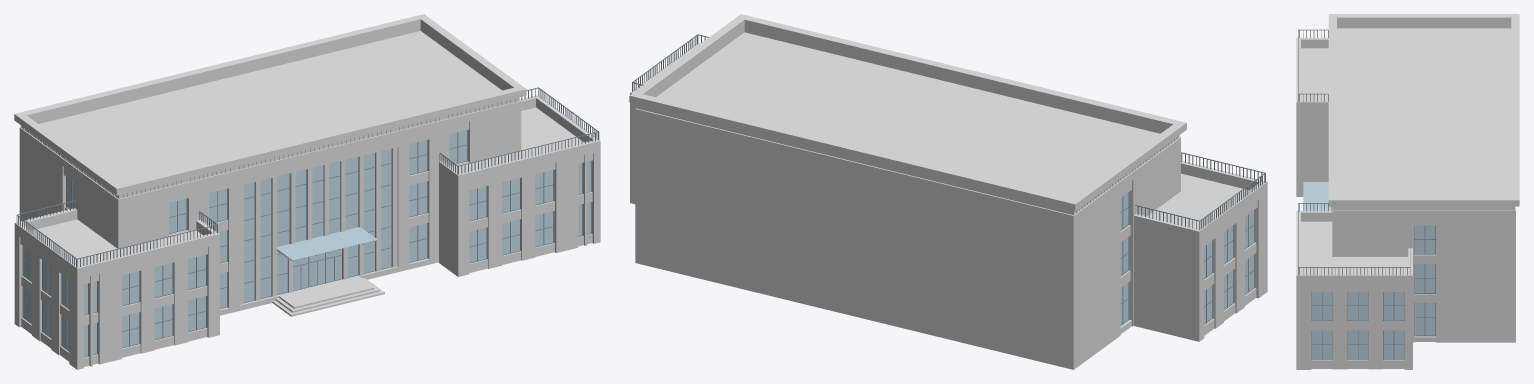
The model's file is 办公楼33.gltf.
3 renders of one model, left to right at view 1: azimuth 30°, elevation 25°; view 2: azimuth 150°, elevation 25°; view 3: azimuth 270°, elevation 25°, orthographic. The views are drawn at different scales.
Visible parts, largest first — view 1: 办公楼33; view 2: 办公楼33; view 3: 办公楼33.
Part boxes in pixels (<box>): 办公楼33: <box>14,14,600,369</box>; 办公楼33: <box>629,14,1267,369</box>; 办公楼33: <box>1296,14,1519,369</box>.
Bounding box in the file's own units: 47 × 13.25 × 18.65.
